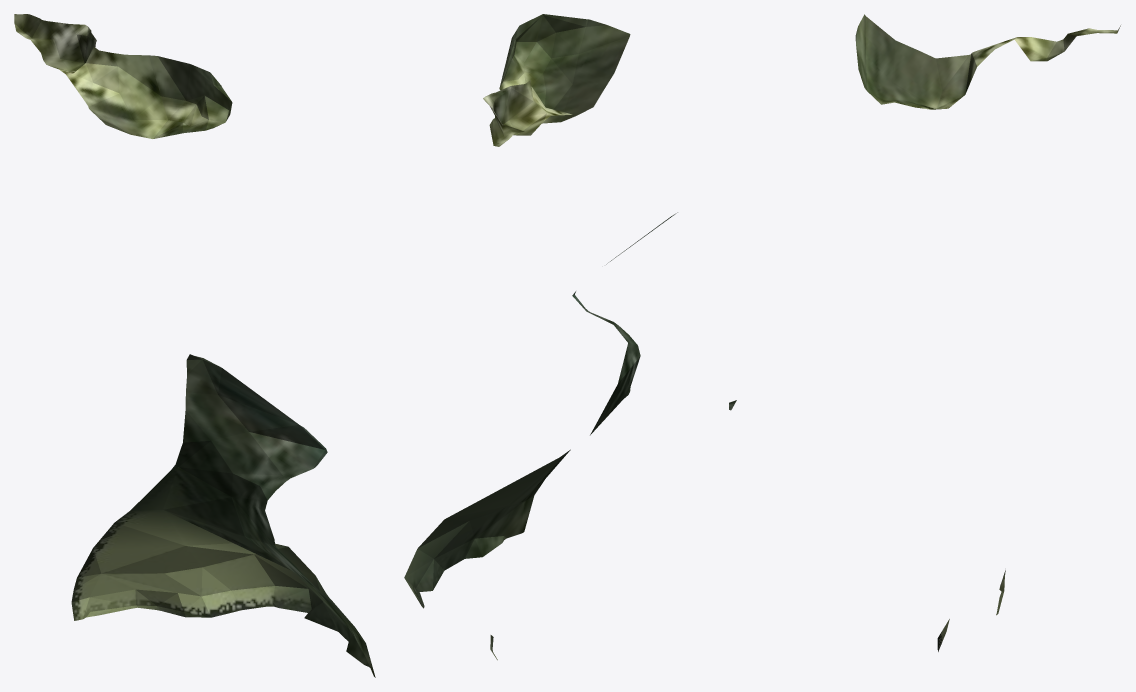
3 views of the same model, side by side, from view 1: azimuth 30°, elevation 25°; view 2: azimuth 150°, elevation 25°; view 3: azimuth 270°, elevation 25° (orthographic). The views are drawn at different scales.
Bounding box in the file's own units: 2.1 × 5.9 × 3.68.
Materials: 1 (1 with a texture image).
